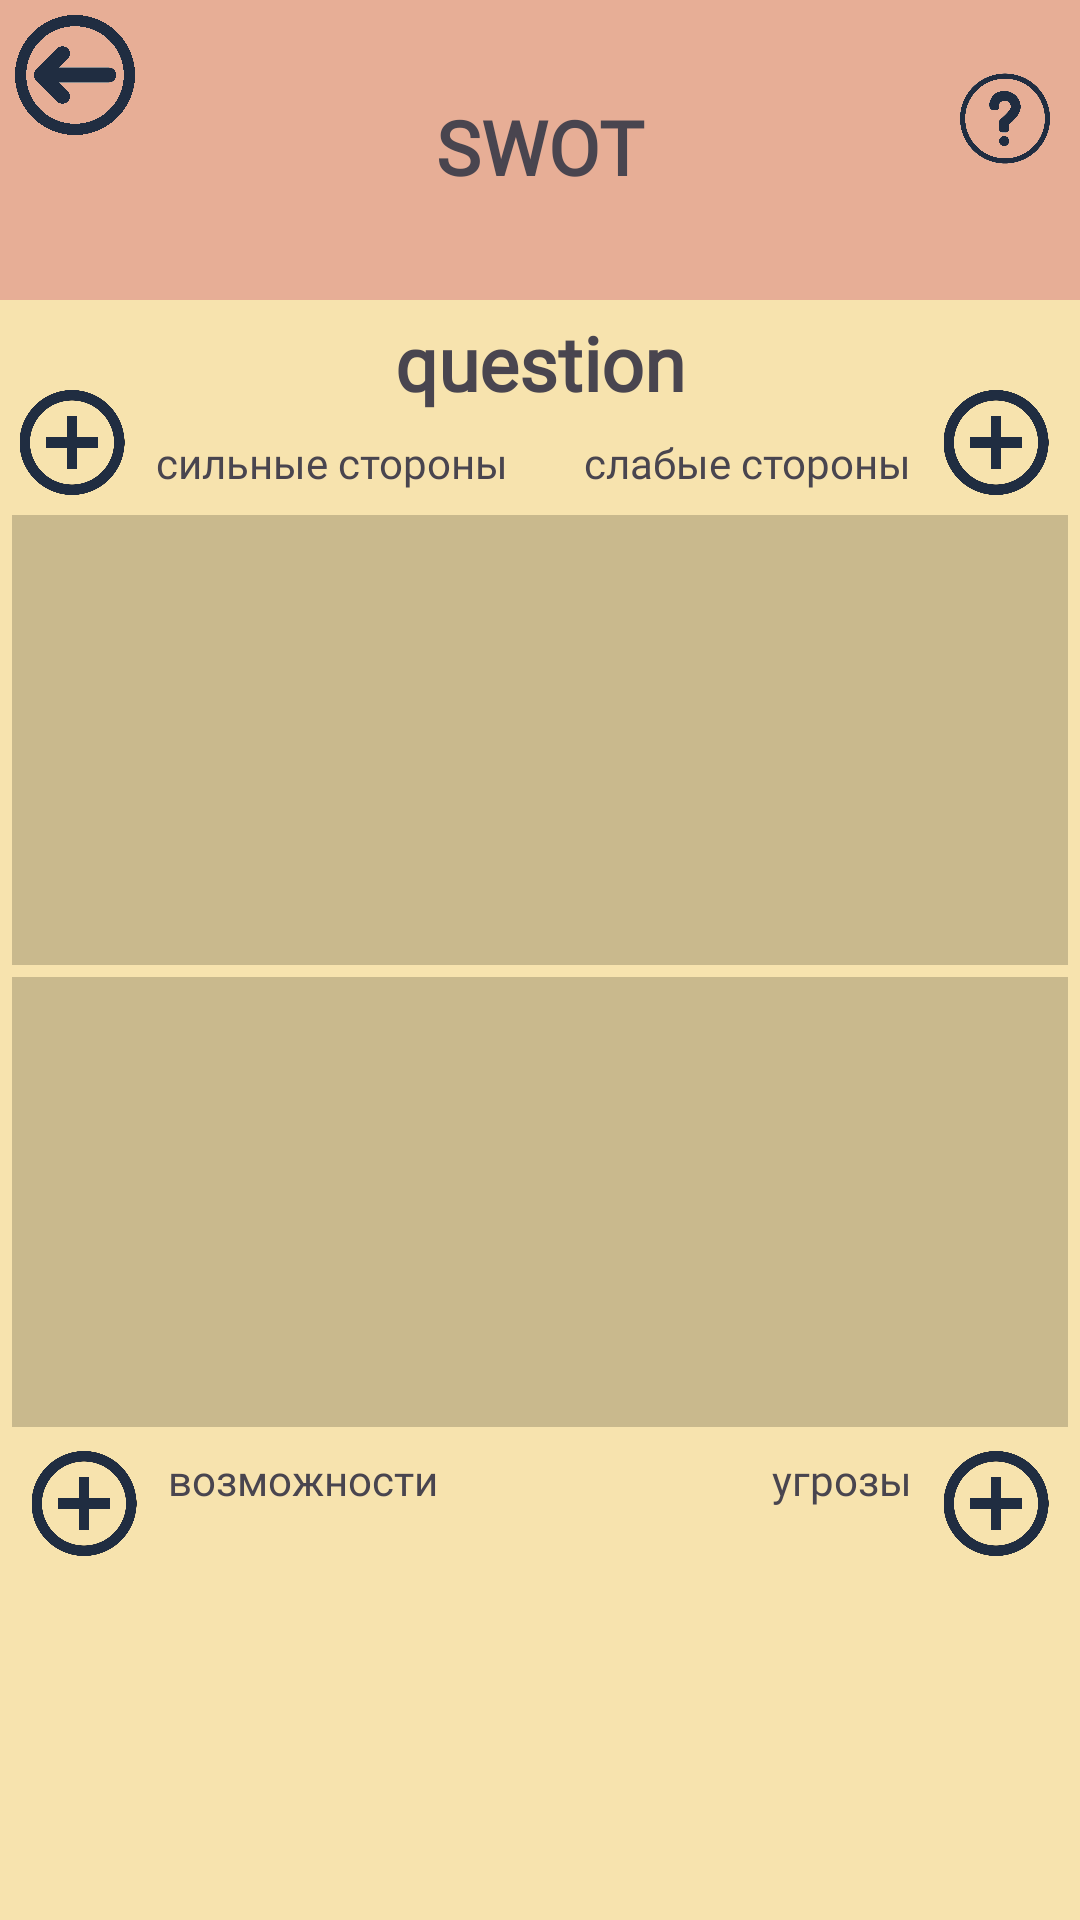

Where to tap for icons on this 1080x1920 app screen, as [x,y]:
addbutton: [72,442], [996,442], [84,1503], [996,1503]
backbutton: [75,75]
